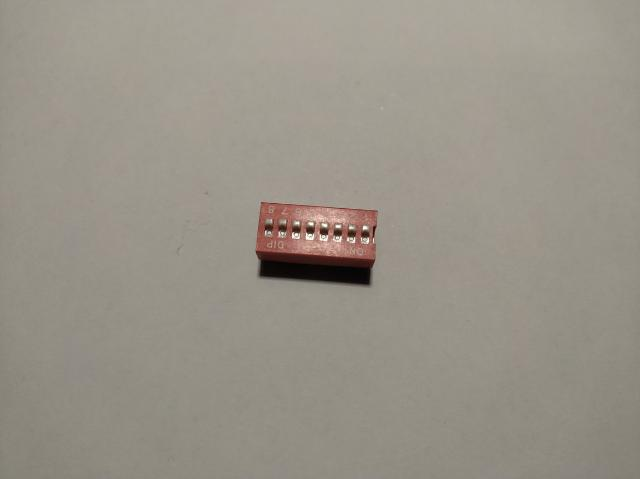dip_switch: (256, 201, 378, 270)
